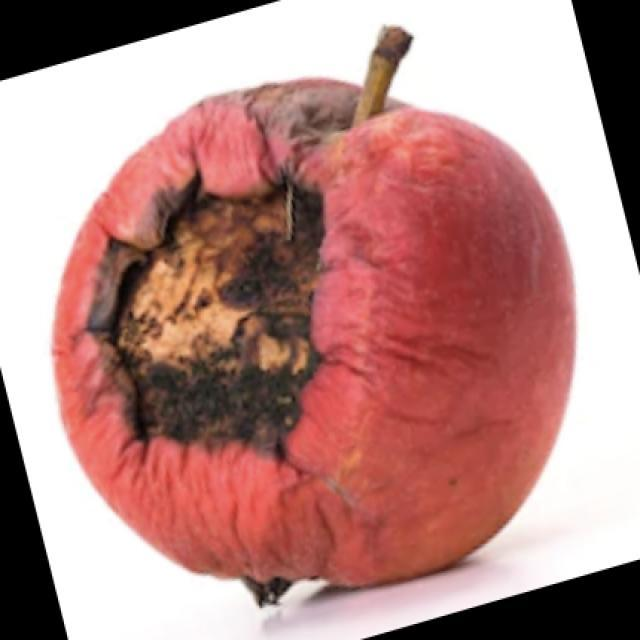Rotten: (68, 74, 575, 588)
